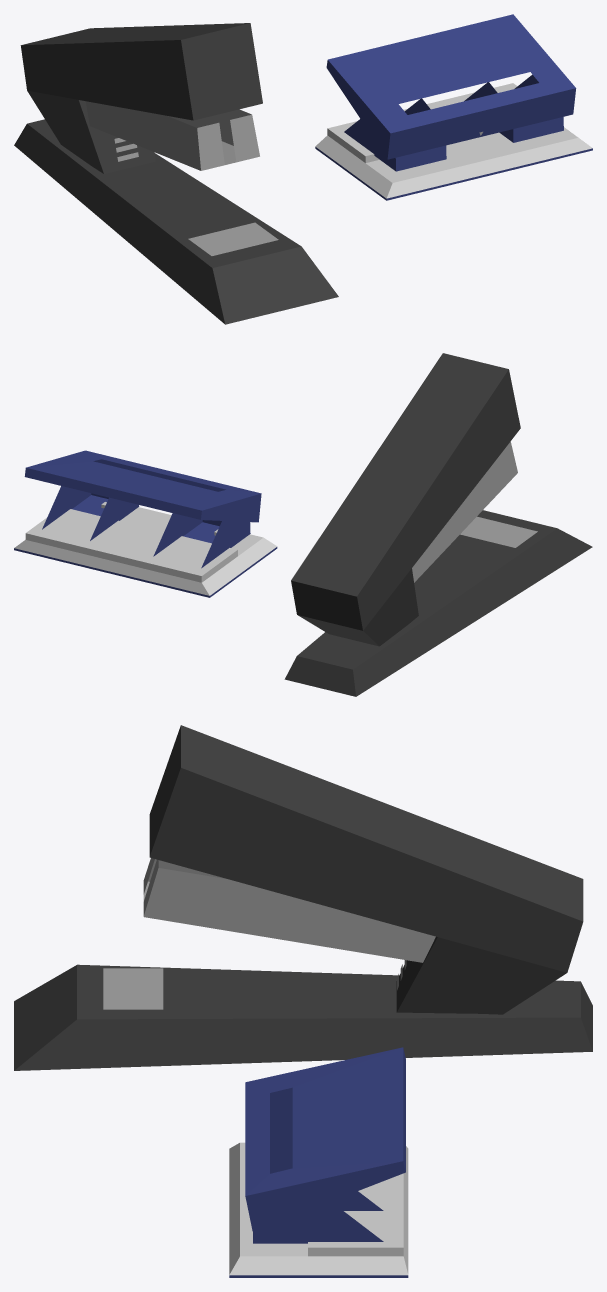
File: STAPELER AND HOLE PUNCHER.fbx
3 renders of one model, top to bottom at view 1: azimuth 30°, elevation 25°; view 2: azimuth 150°, elevation 25°; view 3: azimuth 270°, elevation 25°, orthographic. The views are drawn at different scales.
Visible parts, largest first — view 1: STAPELER, Plane; view 2: STAPELER, Plane; view 3: STAPELER, Plane.
Boxes of the visible parts, bbox=[...] form: STAPELER: bbox=[14, 23, 338, 324]; Plane: bbox=[315, 14, 592, 200]; STAPELER: bbox=[284, 353, 592, 696]; Plane: bbox=[14, 450, 277, 597]; STAPELER: bbox=[14, 725, 592, 1070]; Plane: bbox=[229, 1047, 408, 1277].
Bounding box in the file's own units: 439 × 214 × 387.
